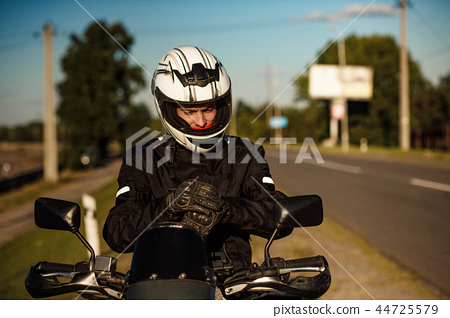helmet: (150, 45, 233, 143)
